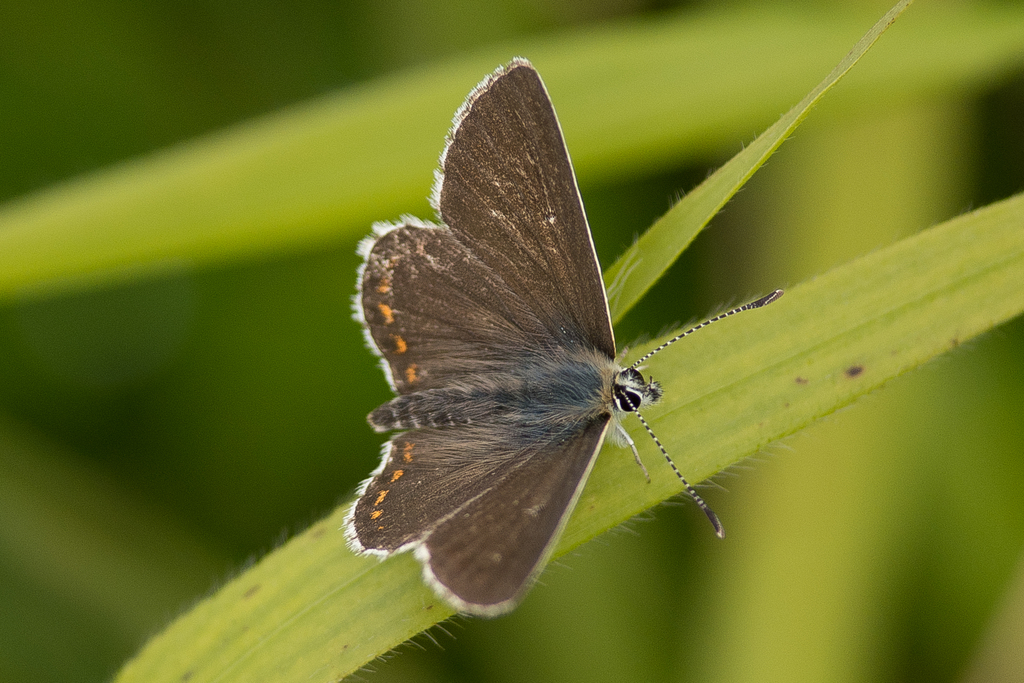Butterfly: (336, 55, 697, 613)
